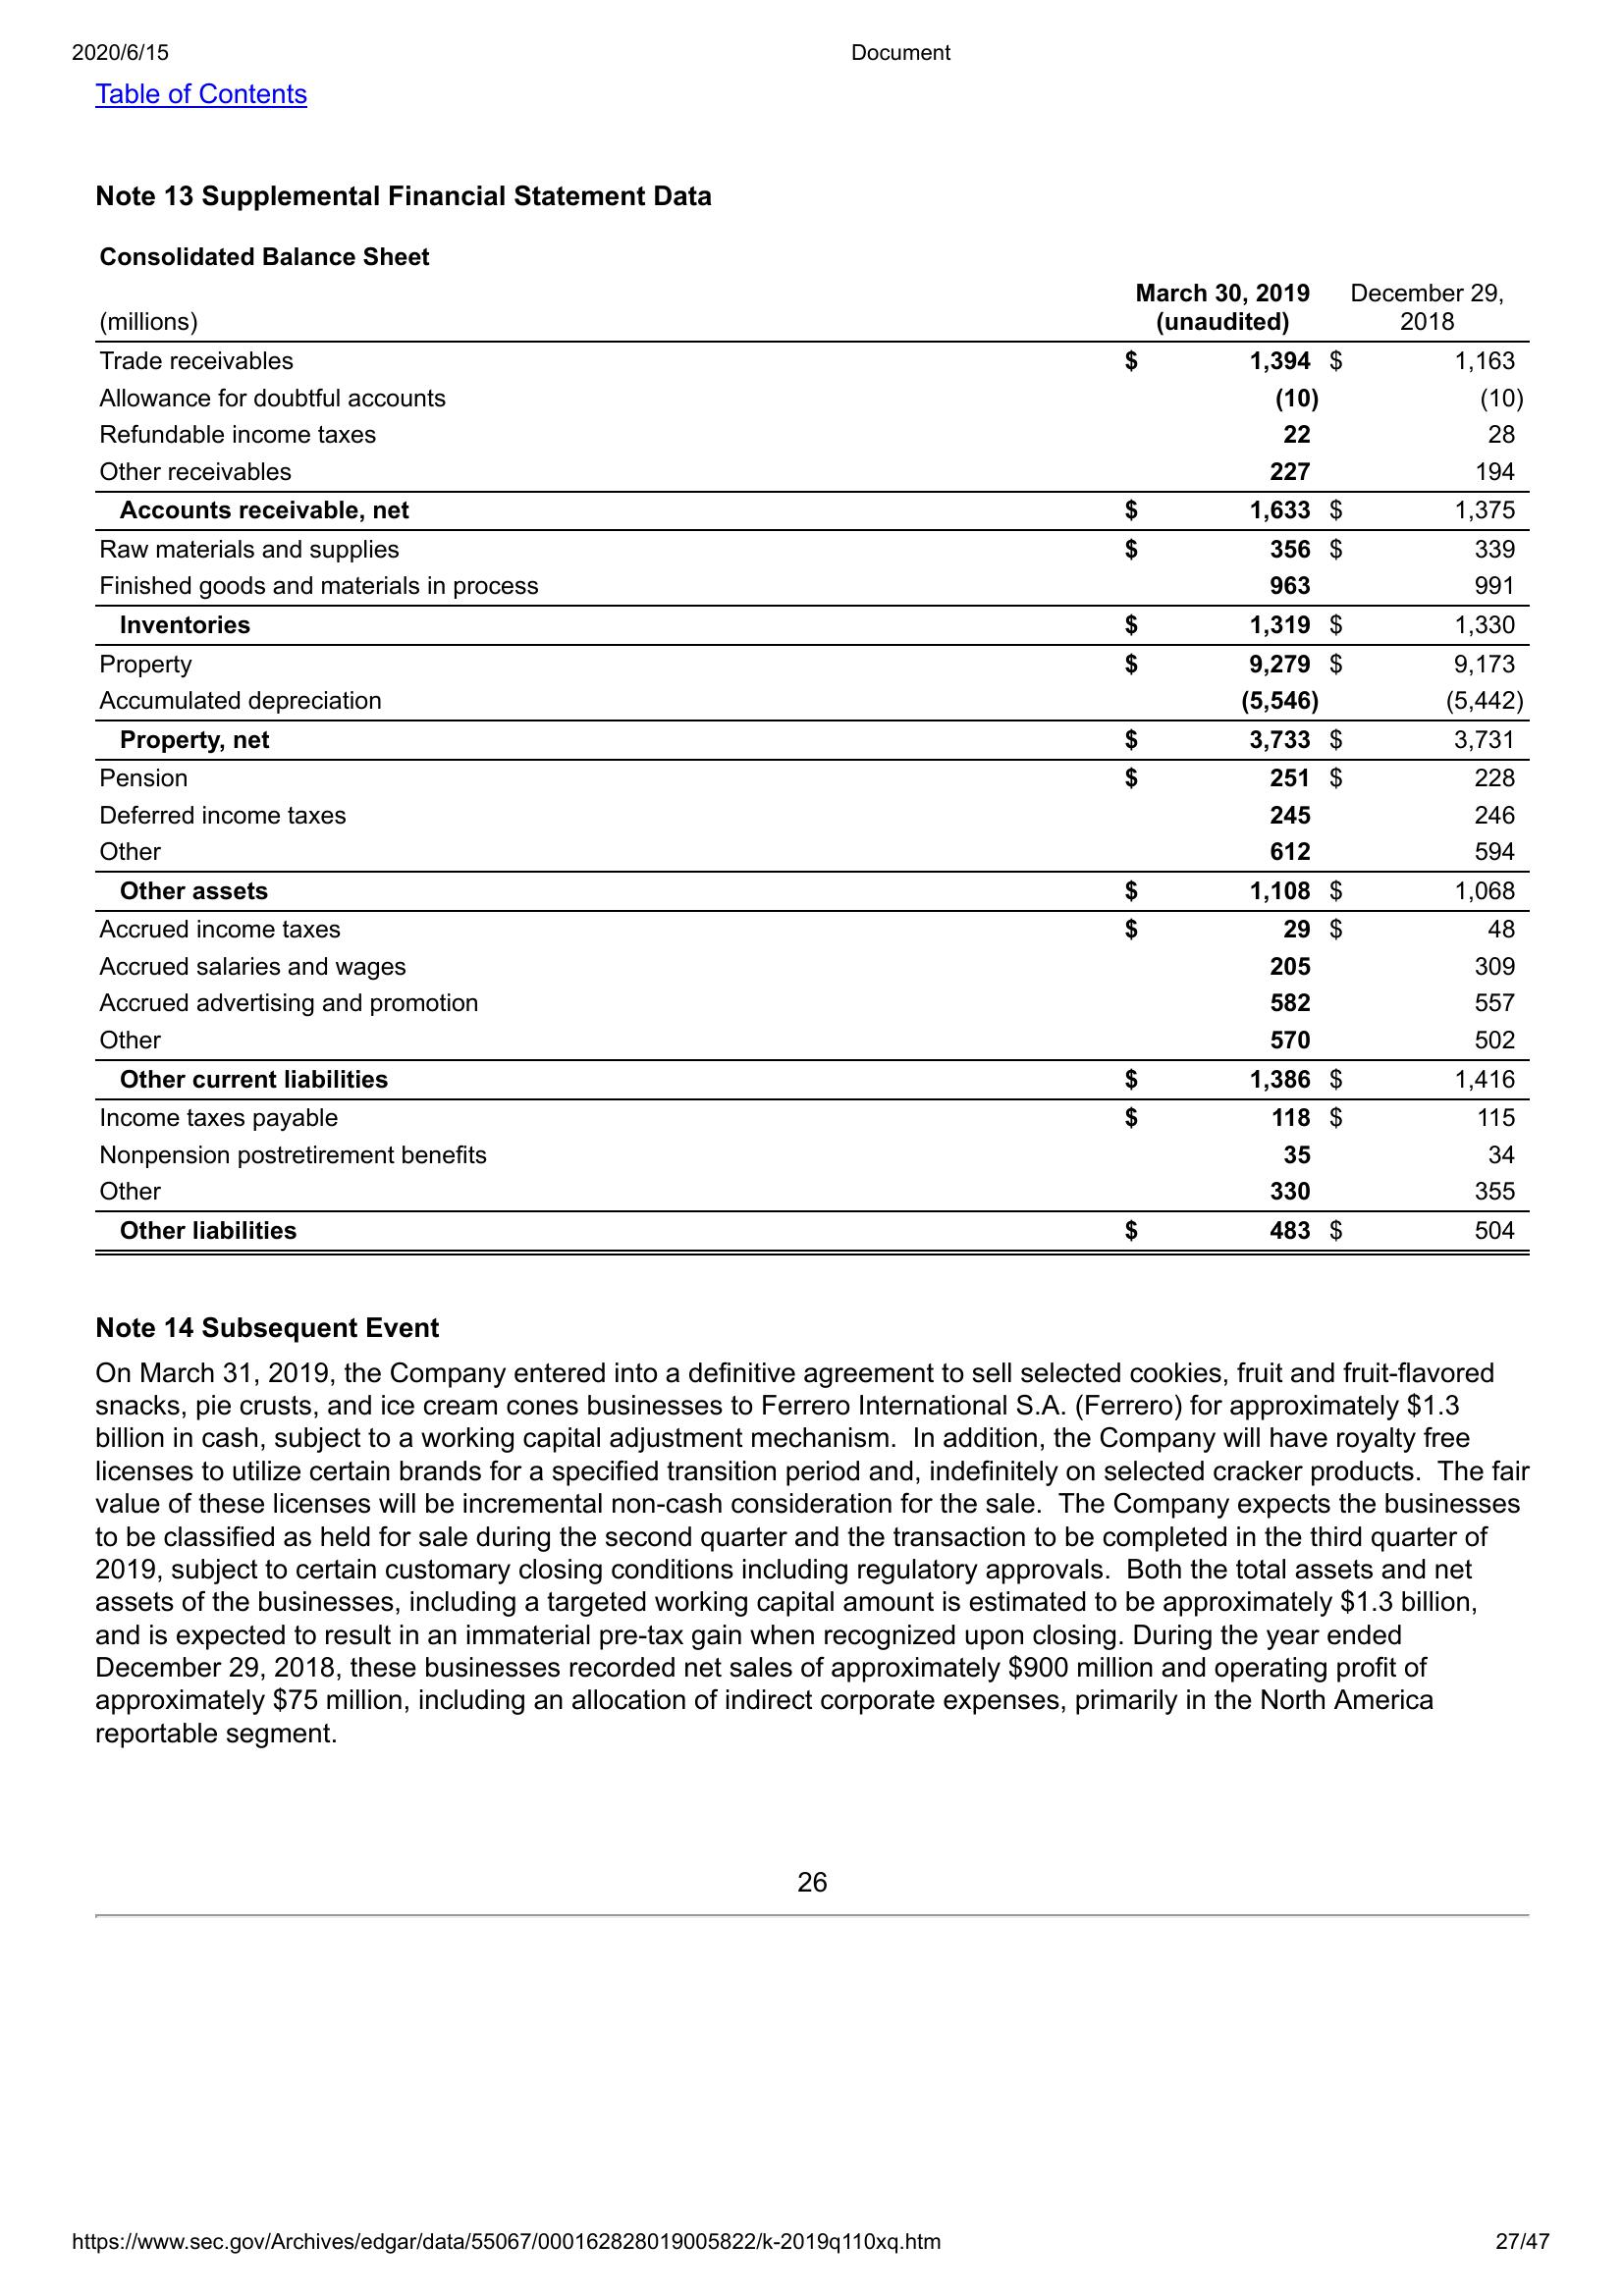table: (93, 277, 1539, 1271)
